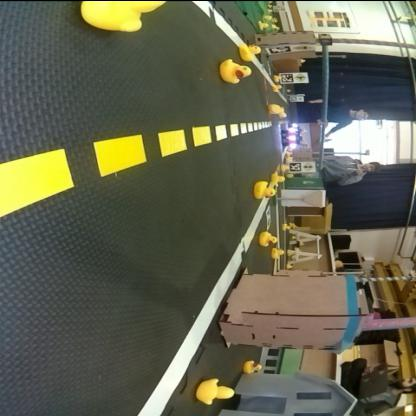Duckie: (81, 2, 170, 31), (202, 378, 235, 404), (220, 59, 252, 83), (254, 182, 276, 198), (241, 46, 262, 60), (244, 360, 262, 373), (261, 232, 277, 246), (272, 174, 286, 184), (272, 248, 285, 258), (269, 105, 280, 115), (274, 84, 282, 90), (280, 166, 288, 172), (274, 75, 282, 81), (284, 224, 291, 230)
Duckiebot: (282, 128, 300, 148)
Intersection sign: (297, 74, 306, 82)
QR code: (268, 46, 292, 53), (290, 162, 302, 171), (282, 74, 294, 82)
